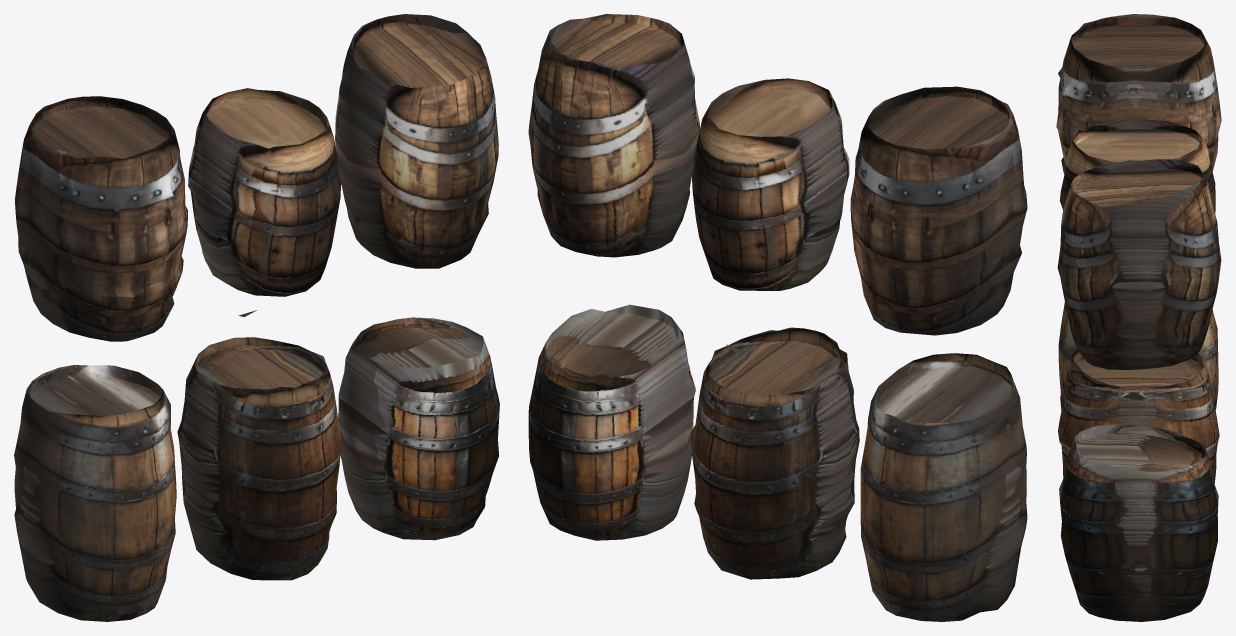
The model's file is barrel.glb.
3 views of the same model, side by side, from view 1: azimuth 30°, elevation 25°; view 2: azimuth 150°, elevation 25°; view 3: azimuth 270°, elevation 25° (orthographic). The views are drawn at different scales.
Visible parts, largest first — view 1: geometry_0; view 2: geometry_0; view 3: geometry_0.
Boxes of the visible parts, box(x1,y1,x2,y2) form: geometry_0: box(14, 14, 499, 621); geometry_0: box(528, 14, 1027, 621); geometry_0: box(1056, 14, 1221, 621).
Size of the model in its own units: 1.01 by 1 by 0.3482.
Materials: 1 (1 with a texture image).
